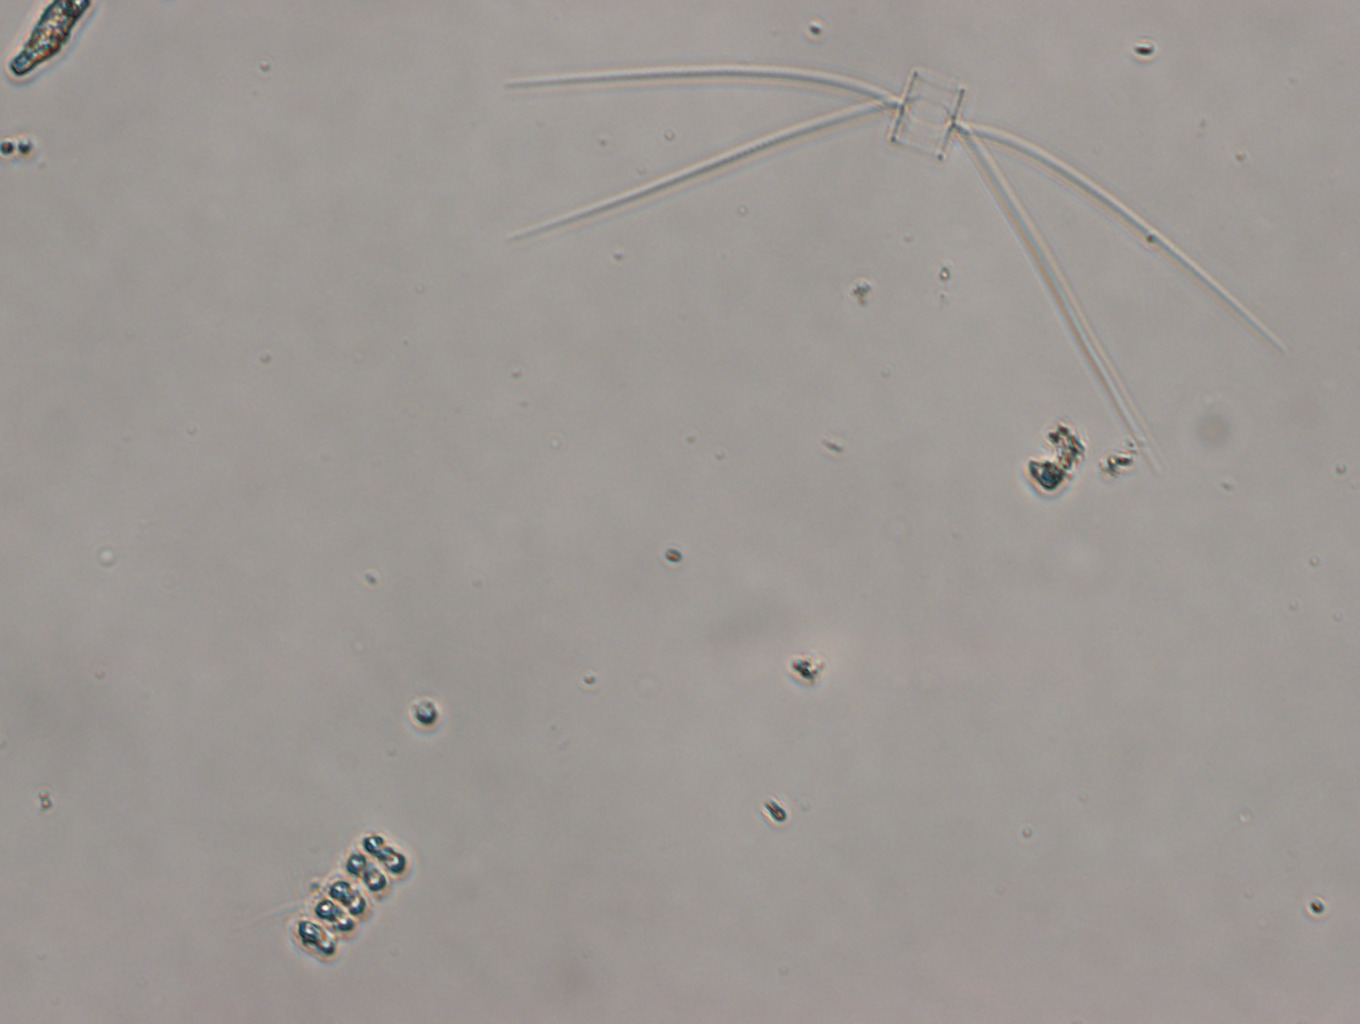chaetoceros: (501, 66, 1287, 480), (266, 827, 418, 966)
